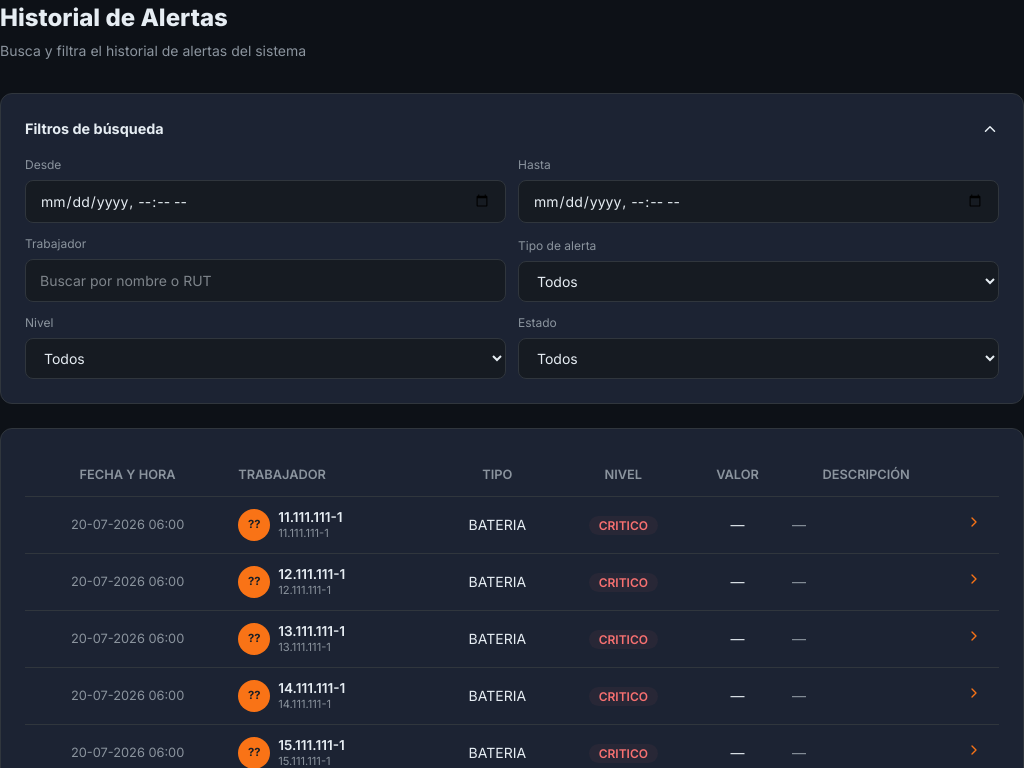
Test: HistorialAlertasClient - filtros combinados y paginación coherente › escenario del bug: combinación sin resultados oculta el total y la paginación
This screenshot has width=1024, height=768.
Select "OK" in the 2nd dropdown: (266, 358) [25,338,506,379]
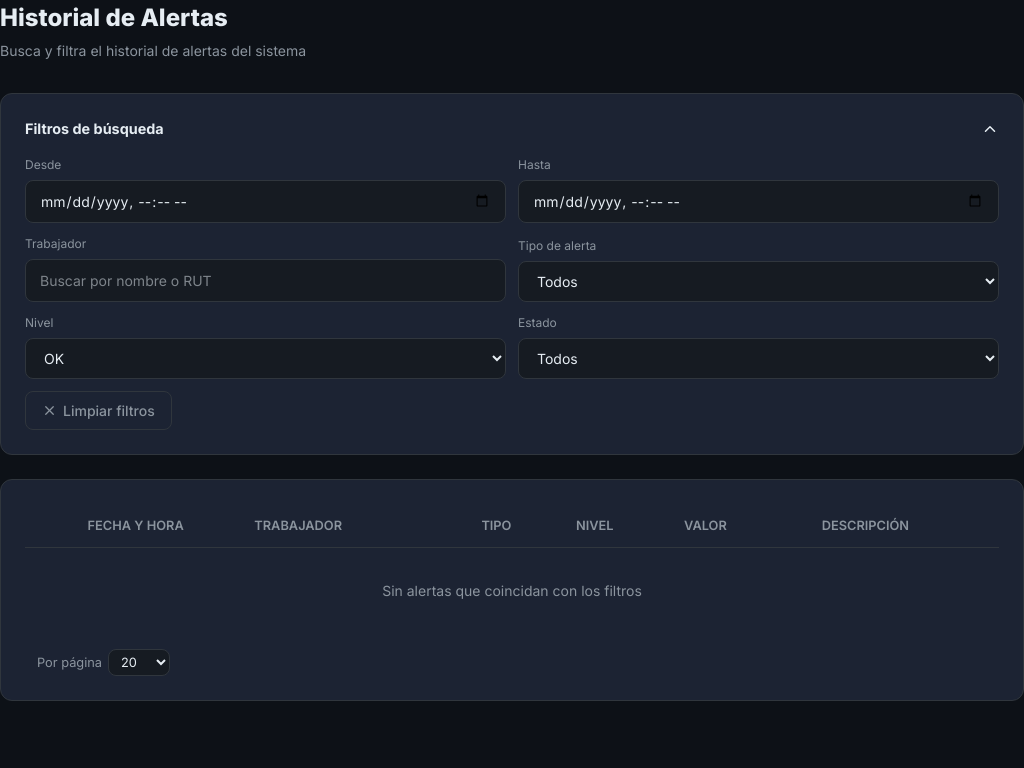
Expected: the text "Sin alertas que coincidan con los filtros" is shown, [25,547,999,633]
